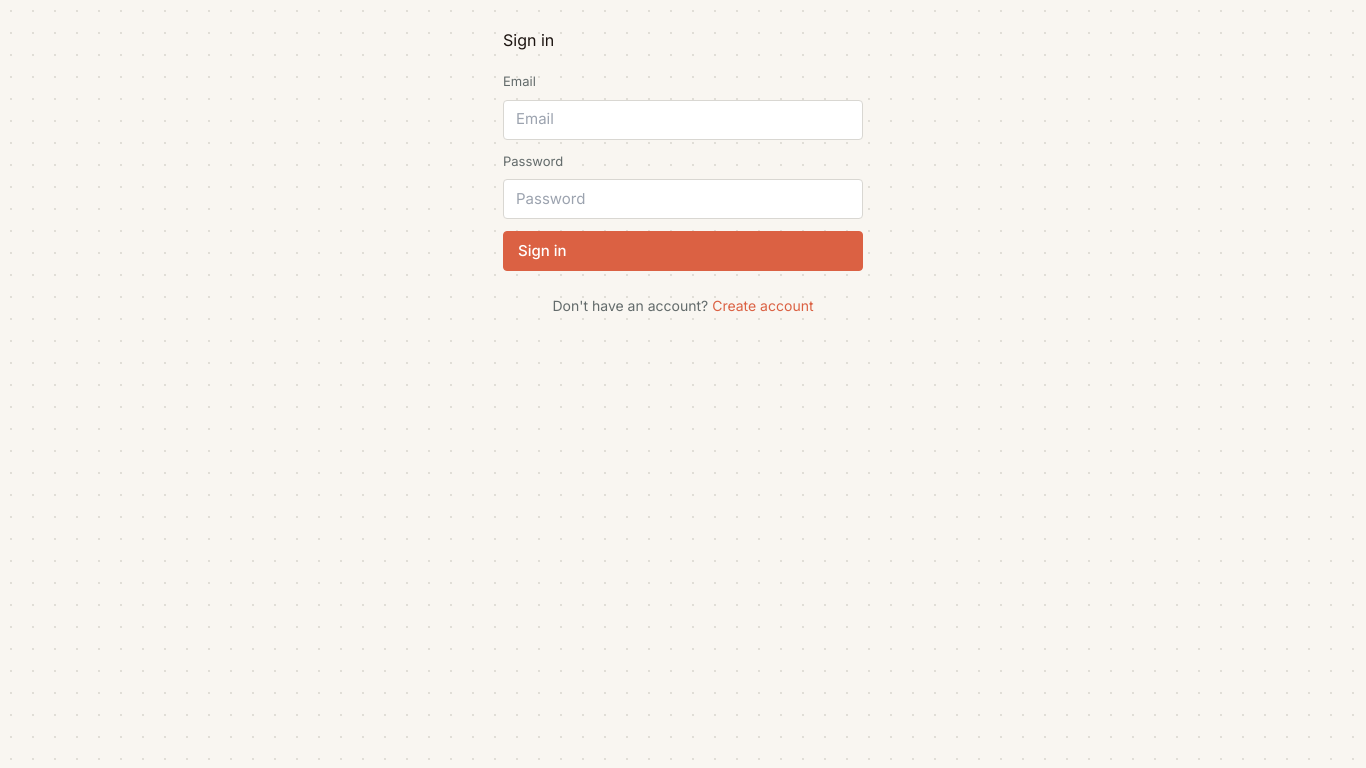
Test: Auth page › shows the server message as an alert when authentication fails
Type "alice@example.com" into the field with id "auth-email".
click(683, 120); type("alice@example.com")  # box [503,100,863,140]
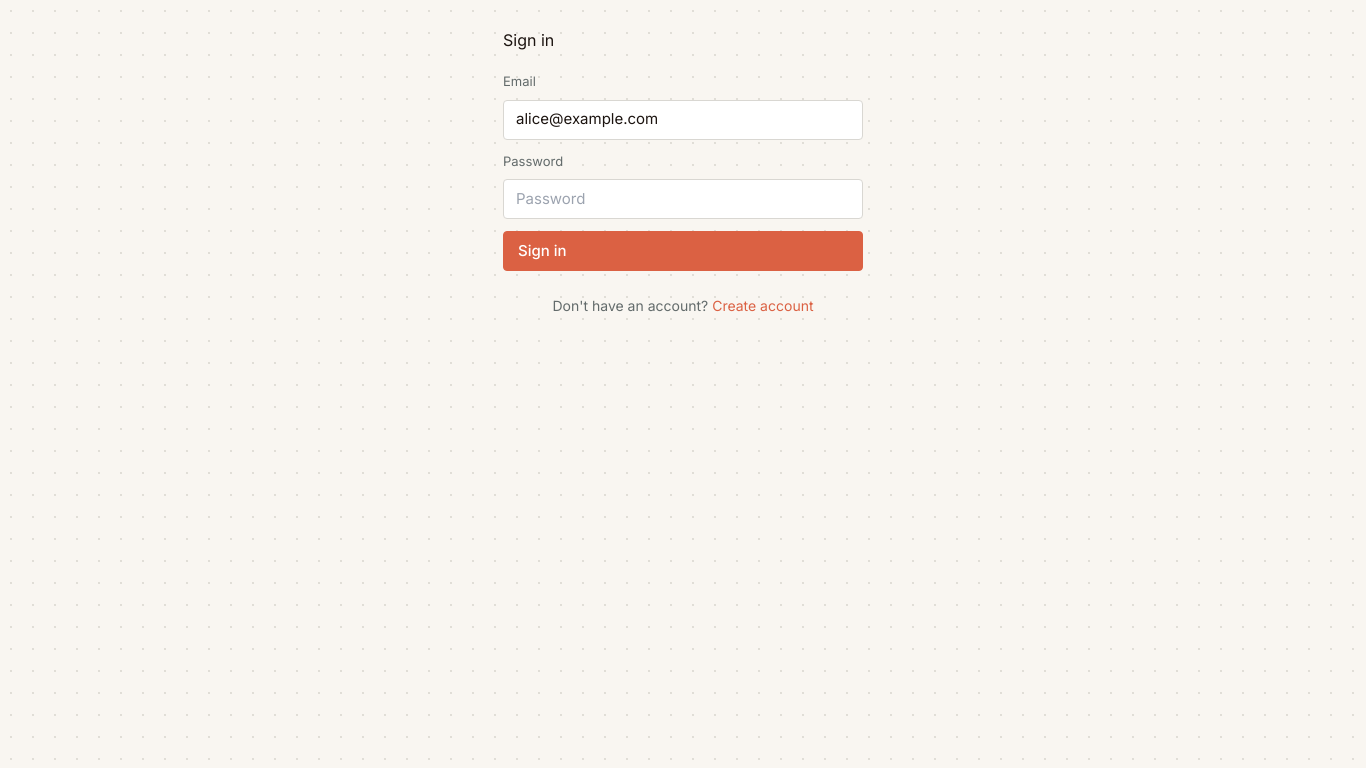
Type "wrong" into the password field with id "auth-password".
click(683, 199); type("wrong")  # box [503,179,863,219]
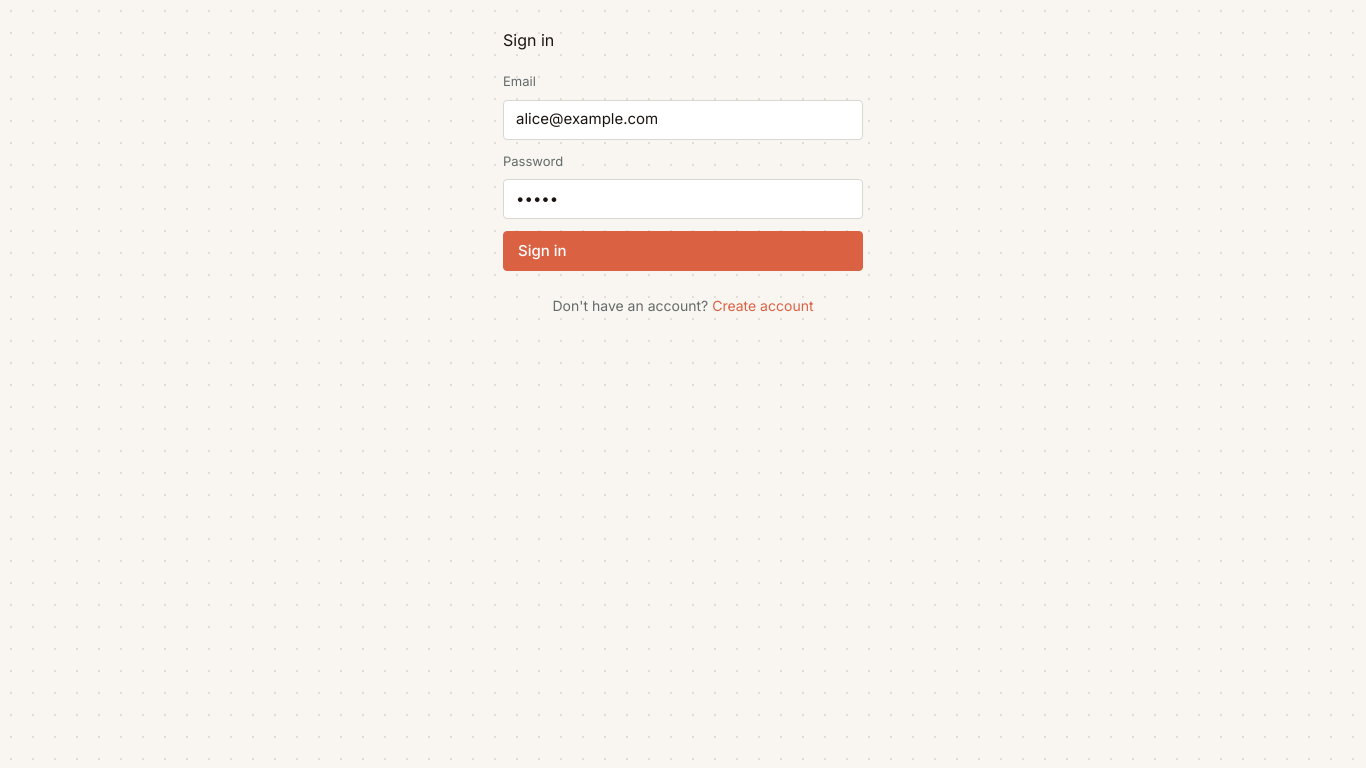
Submit the form, box [503,72,863,271]
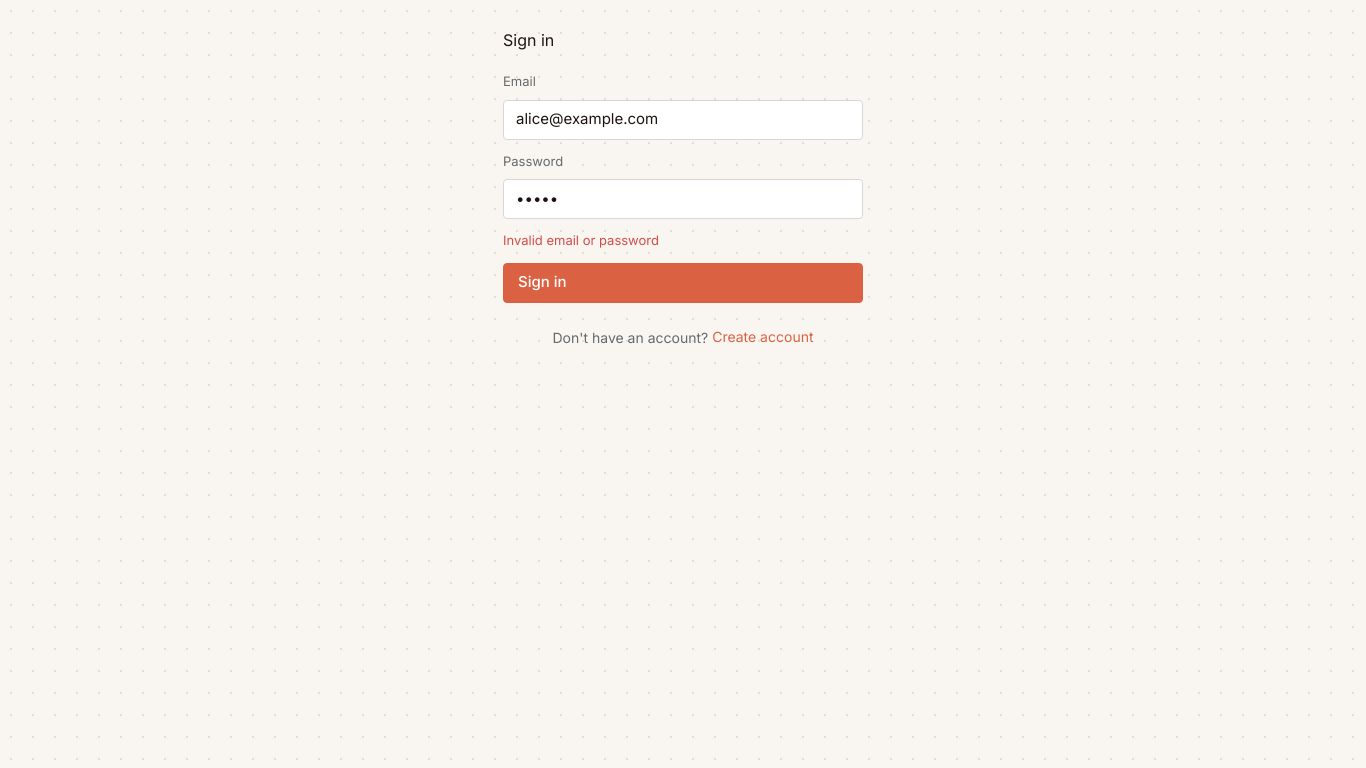
Check: the message "Invalid email or password" is shown, box [503,232,659,248]
